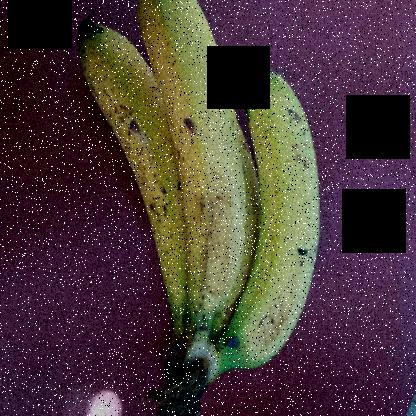ripe: (66, 20, 192, 379), (224, 55, 338, 395), (131, 0, 242, 310)
